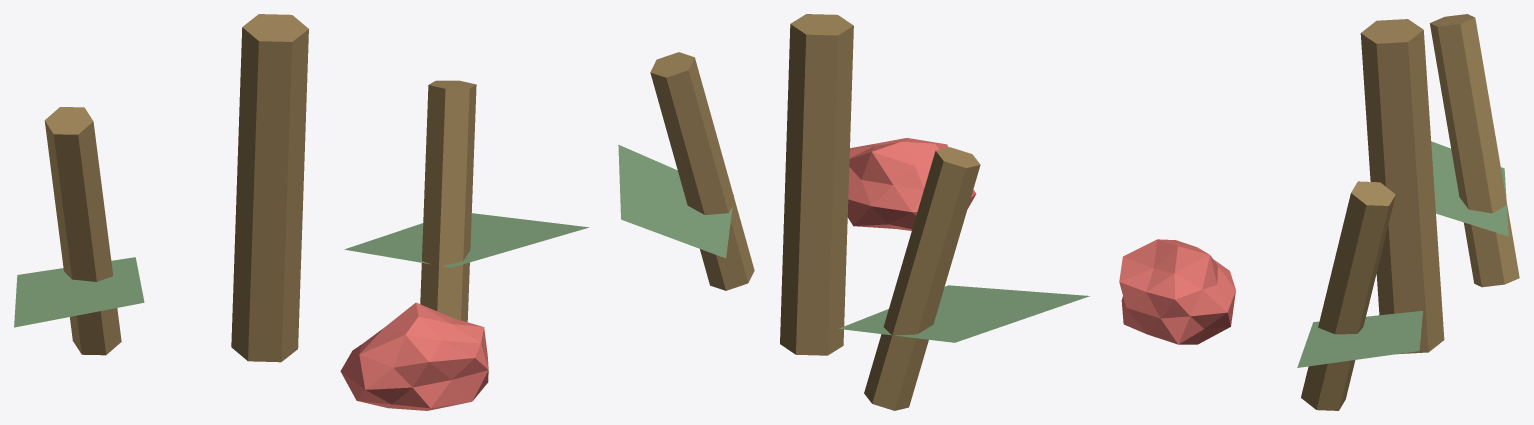
Rendered from t5_fiber_depleted.glb.
3 renders of one model, left to right at view 1: azimuth 30°, elevation 25°; view 2: azimuth 150°, elevation 25°; view 3: azimuth 270°, elevation 25°, orthographic. The views are drawn at different scales.
Parts seen in each view (by area): view 1: CutCenterStem, DroppedCottonTuft, CutRightStem, CutLeftStem, WiltedLeafLeft, WiltedLeafRight; view 2: CutCenterStem, CutLeftStem, CutRightStem, DroppedCottonTuft, WiltedLeafRight, WiltedLeafLeft; view 3: CutCenterStem, CutLeftStem, DroppedCottonTuft, CutRightStem, WiltedLeafRight, WiltedLeafLeft.
Part boxes in pixels (bbox=[...]): CutCenterStem: bbox=[231, 14, 308, 362]; DroppedCottonTuft: bbox=[340, 302, 488, 410]; CutRightStem: bbox=[420, 80, 476, 322]; CutLeftStem: bbox=[44, 107, 121, 355]; WiltedLeafLeft: bbox=[14, 257, 144, 327]; WiltedLeafRight: bbox=[344, 213, 589, 267]; CutCenterStem: bbox=[780, 14, 853, 355]; CutLeftStem: bbox=[864, 147, 980, 410]; CutRightStem: bbox=[650, 52, 754, 290]; DroppedCottonTuft: bbox=[847, 138, 976, 230]; WiltedLeafRight: bbox=[618, 144, 733, 258]; WiltedLeafLeft: bbox=[838, 285, 1089, 342]; CutCenterStem: bbox=[1360, 19, 1444, 354]; CutLeftStem: bbox=[1429, 14, 1519, 287]; DroppedCottonTuft: bbox=[1119, 239, 1235, 344]; CutRightStem: bbox=[1301, 181, 1395, 410]; WiltedLeafRight: bbox=[1297, 311, 1422, 367]; WiltedLeafLeft: bbox=[1431, 141, 1508, 236].
Size of the model in its own units: 0.6481 by 0.3837 by 0.4436.
